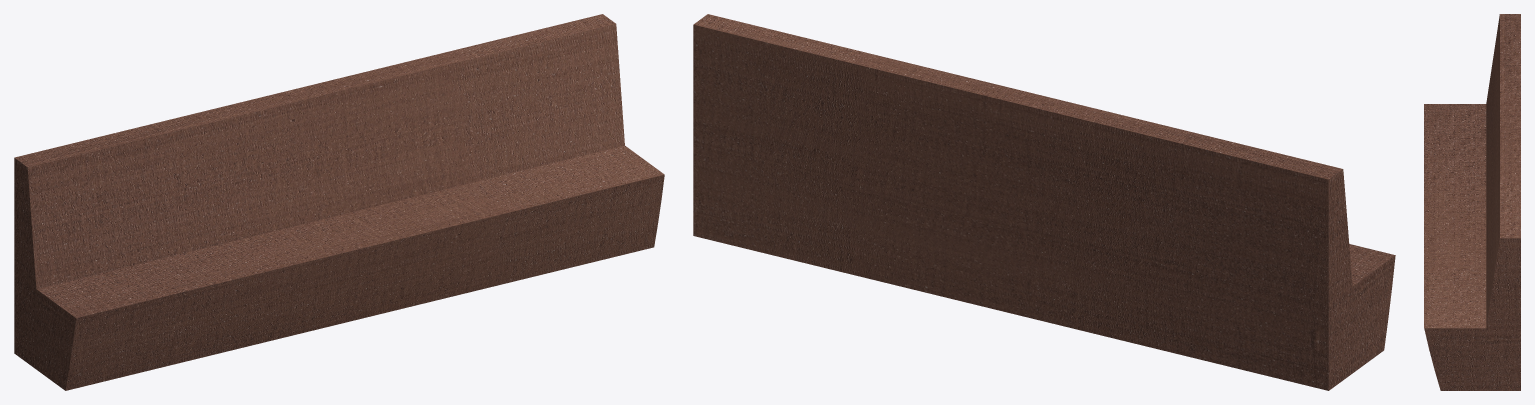
File: hall_bench.fbx
The picture shows the model from 3 angles, left to right: view 1: azimuth 30°, elevation 25°; view 2: azimuth 150°, elevation 25°; view 3: azimuth 270°, elevation 25°; orthographic projection. The views are drawn at different scales.
Visible parts, largest first — view 1: hall_bench; view 2: hall_bench; view 3: hall_bench.
Boxes of the visible parts, <box> form: hall_bench: <box>14,14,664,390</box>; hall_bench: <box>693,14,1395,390</box>; hall_bench: <box>1424,14,1520,390</box>.
Bounding box in the file's own units: 0.0233 × 0.00741 × 0.00425.
1 material, 1 textured.
